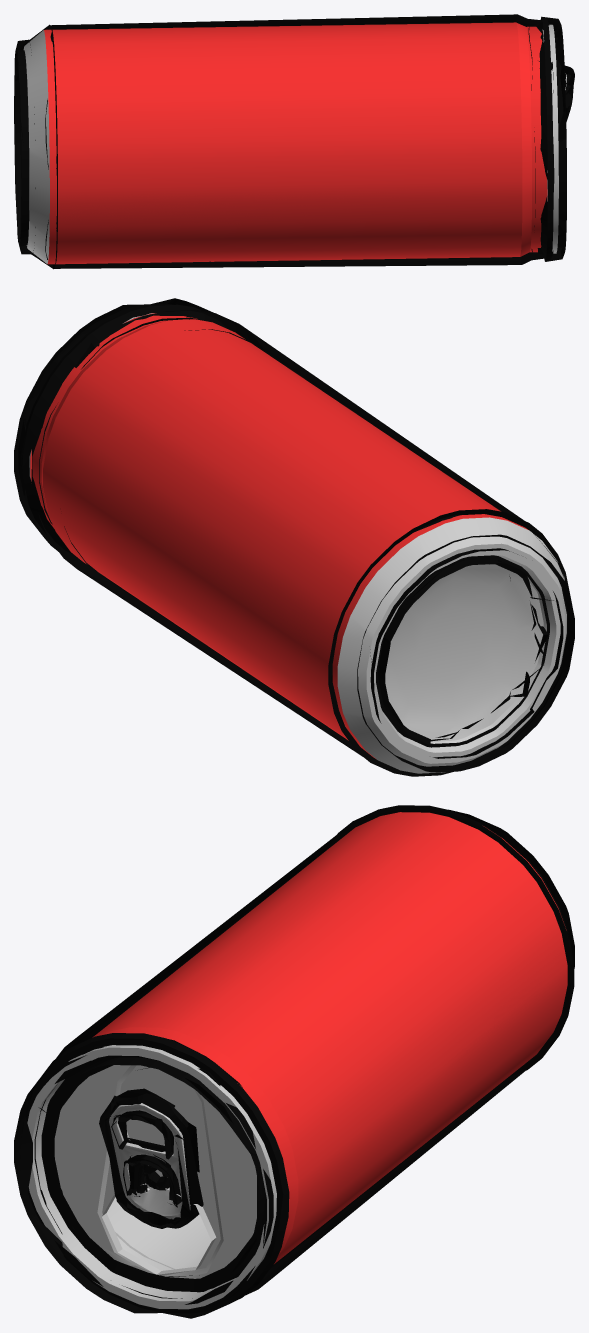
File: can.glb
3 renders of one model, top to bottom at view 1: azimuth 30°, elevation 25°; view 2: azimuth 150°, elevation 25°; view 3: azimuth 270°, elevation 25°, orthographic. The views are drawn at different scales.
Visible parts, largest first — view 1: Cylinder.001; view 2: Cylinder.001; view 3: Cylinder.001.
Part boxes in pixels (x1,y1,x2,y2): Cylinder.001: (14,14,574,269); Cylinder.001: (14,298,574,776); Cylinder.001: (14,805,574,1318).
Size of the model in its own units: 0.6651 by 0.2854 by 0.5159.
